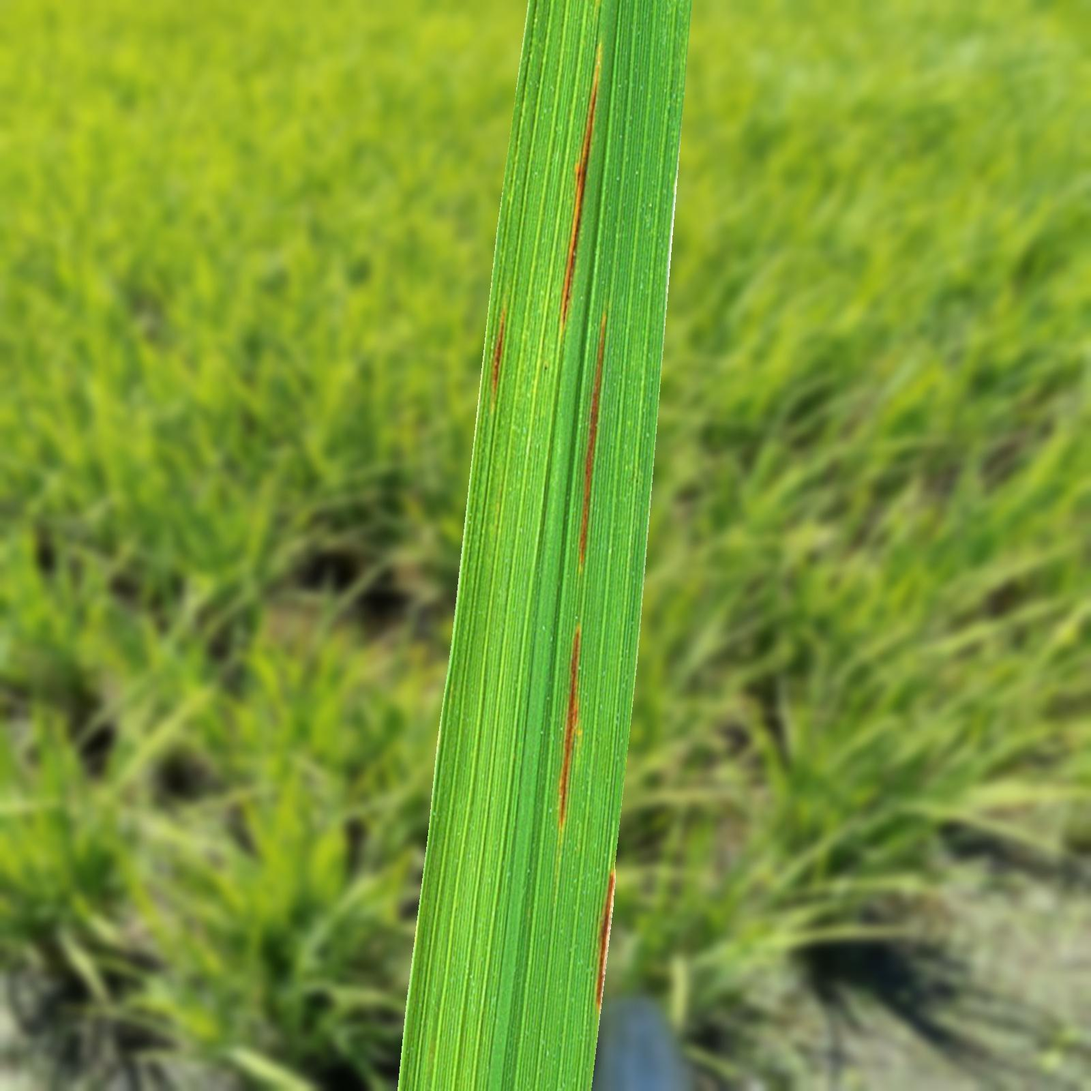LEAF: (398, 0, 692, 1090)
NBS: (562, 42, 600, 333), (580, 312, 606, 570), (558, 625, 581, 831), (596, 869, 615, 1012), (492, 303, 505, 402)
